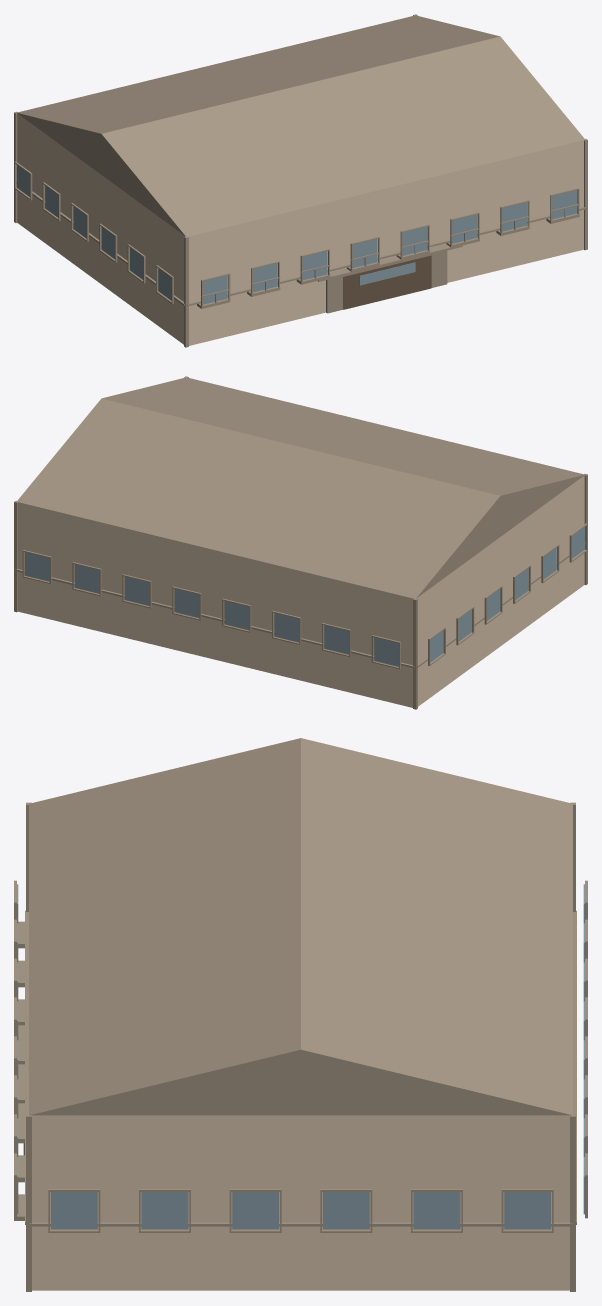
File: lot_4x3_gable.glb
The picture shows the model from 3 angles, top to bottom: view 1: azimuth 30°, elevation 25°; view 2: azimuth 150°, elevation 25°; view 3: azimuth 270°, elevation 25°; orthographic projection. The views are drawn at different scales.
Parts seen in each view (by area): view 1: lot_4x3_gable; view 2: lot_4x3_gable; view 3: lot_4x3_gable.
Part boxes in pixels (x1,y1,x2,y2): lot_4x3_gable: [14, 14, 587, 347]; lot_4x3_gable: [14, 376, 587, 709]; lot_4x3_gable: [14, 738, 587, 1291].
Bounding box in the file's own units: 31.74 × 11 × 23.74.
